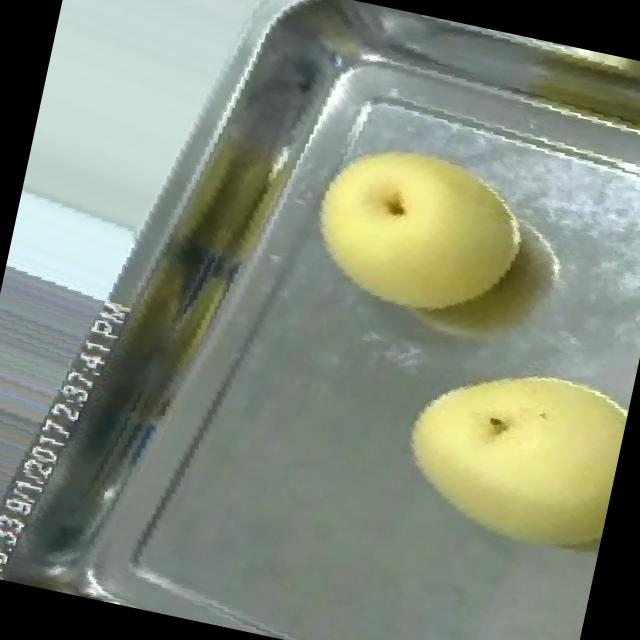Fruit: (360, 326, 636, 588), (272, 105, 550, 358)
